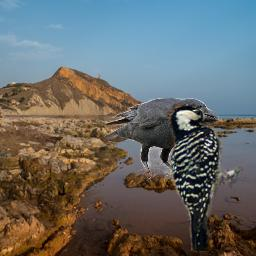Crow: (99, 98, 219, 181)
Woodpecker: (166, 101, 244, 252)
